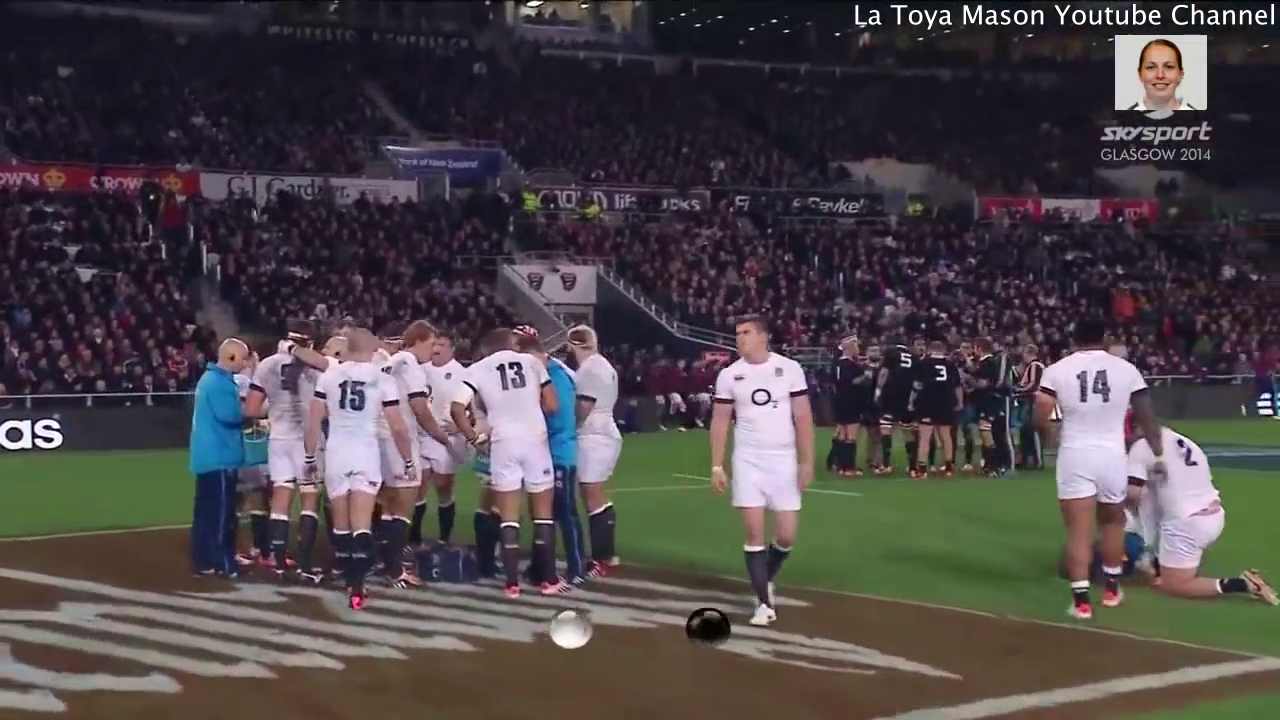player: (702, 306, 828, 635), (1020, 310, 1145, 615), (464, 328, 566, 608), (309, 328, 400, 616), (1133, 415, 1274, 599), (182, 334, 254, 584), (249, 338, 319, 583), (569, 319, 633, 571), (911, 342, 959, 476), (876, 338, 915, 475), (829, 333, 866, 473)
